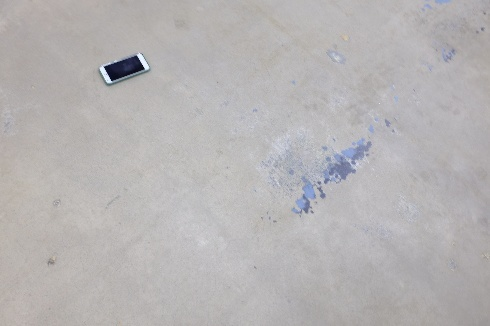phone: (100, 53, 149, 85)
